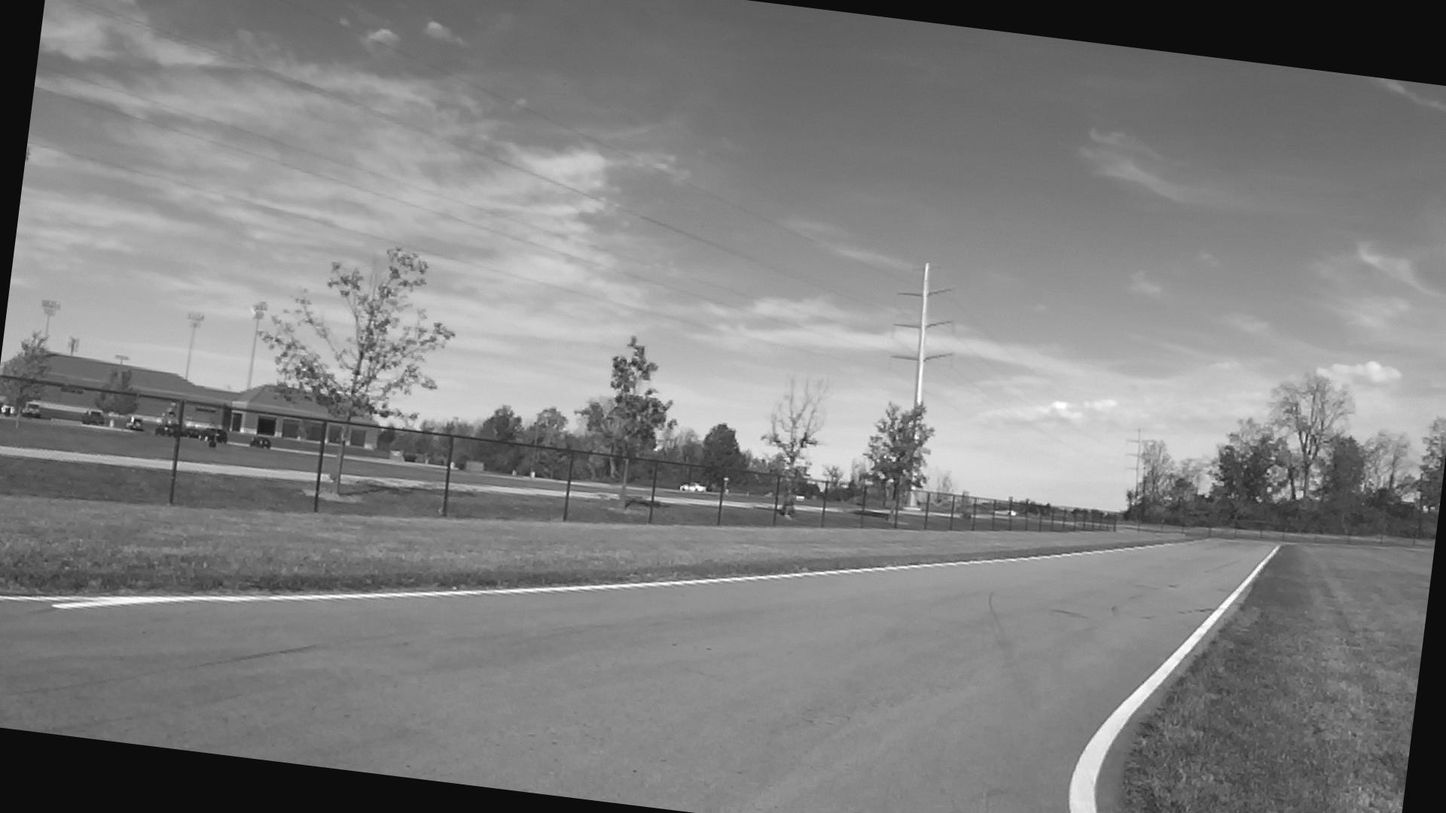white-line: (0, 542, 1179, 609), (1069, 544, 1279, 813)
